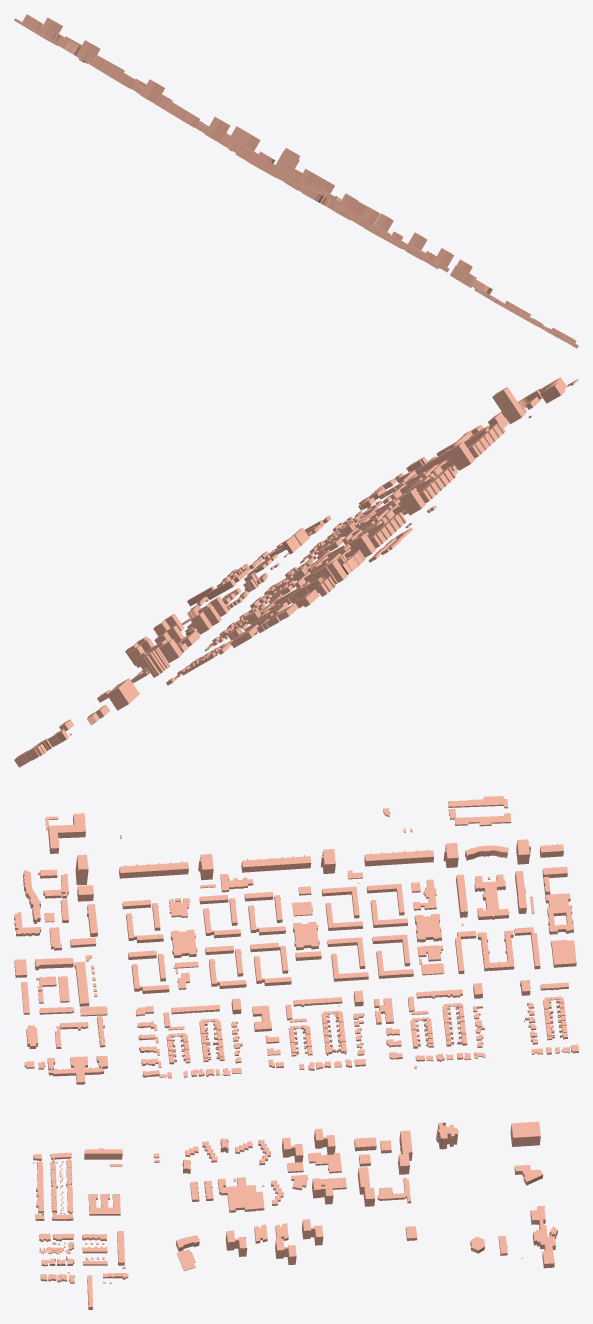
3 renders of one model, top to bottom at view 1: azimuth 30°, elevation 25°; view 2: azimuth 150°, elevation 25°; view 3: azimuth 270°, elevation 25°, orthographic. The views are drawn at different scales.
Size of the model in its own units: 1043 by 753 by 1222.
